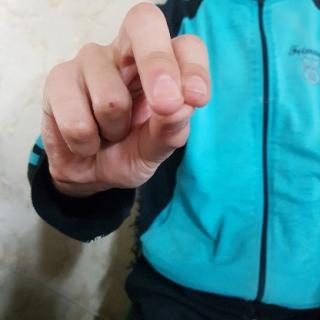QAAF: (36, 0, 211, 191)
